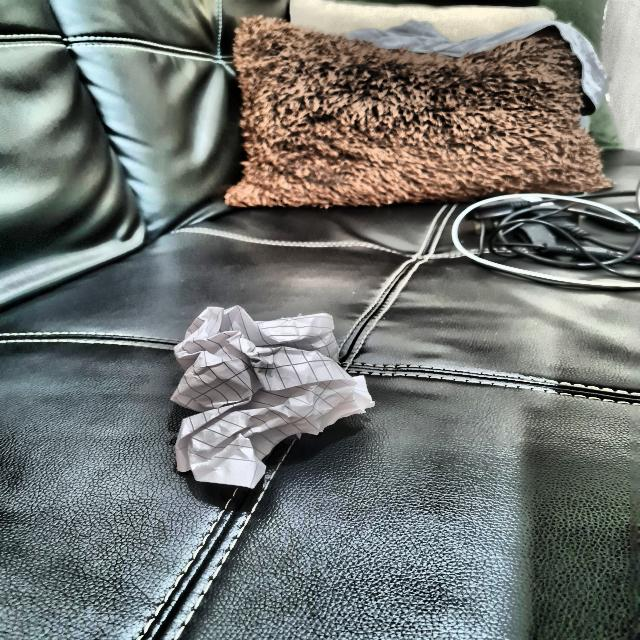Paper: (178, 294, 367, 491)
